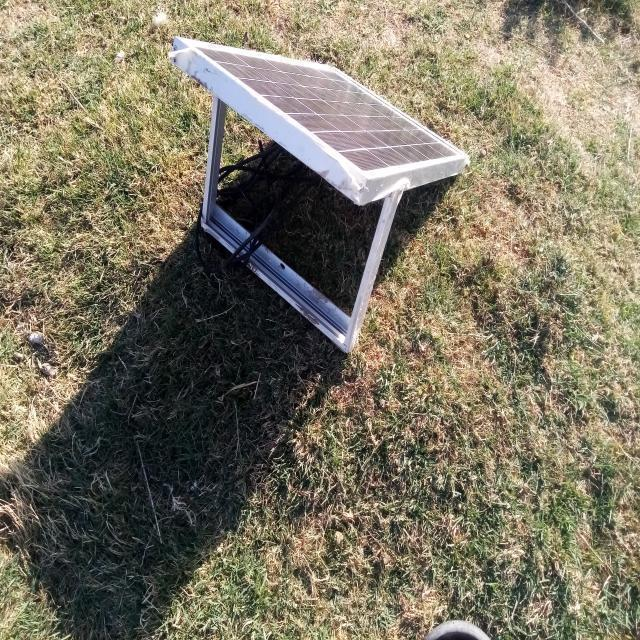Normal Solar Panel: (175, 37, 468, 181)
